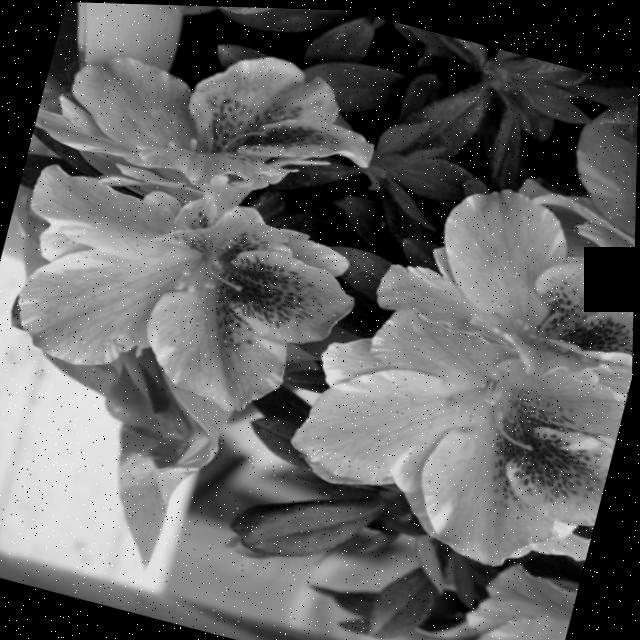azalea: (0, 163, 380, 468), (294, 300, 621, 575), (42, 24, 374, 254), (360, 172, 637, 435)
